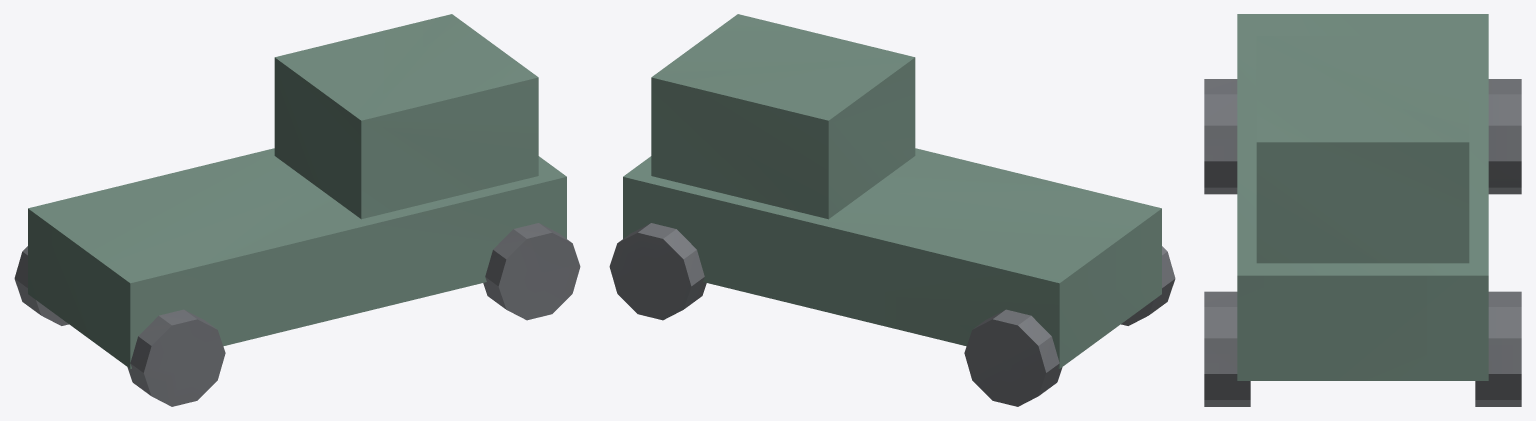
Rendered from train-01.glb.
3 renders of one model, left to right at view 1: azimuth 30°, elevation 25°; view 2: azimuth 150°, elevation 25°; view 3: azimuth 270°, elevation 25°, orthographic. The views are drawn at different scales.
Visible parts, largest first — view 1: world; view 2: world; view 3: world.
Boxes of the visible parts, x1=… form: world: x1=14, y1=14, x2=580, y2=406; world: x1=609, y1=14, x2=1175, y2=406; world: x1=1204, y1=14, x2=1521, y2=406.
Size of the model in its own units: 1.6 by 0.7677 by 0.82.
